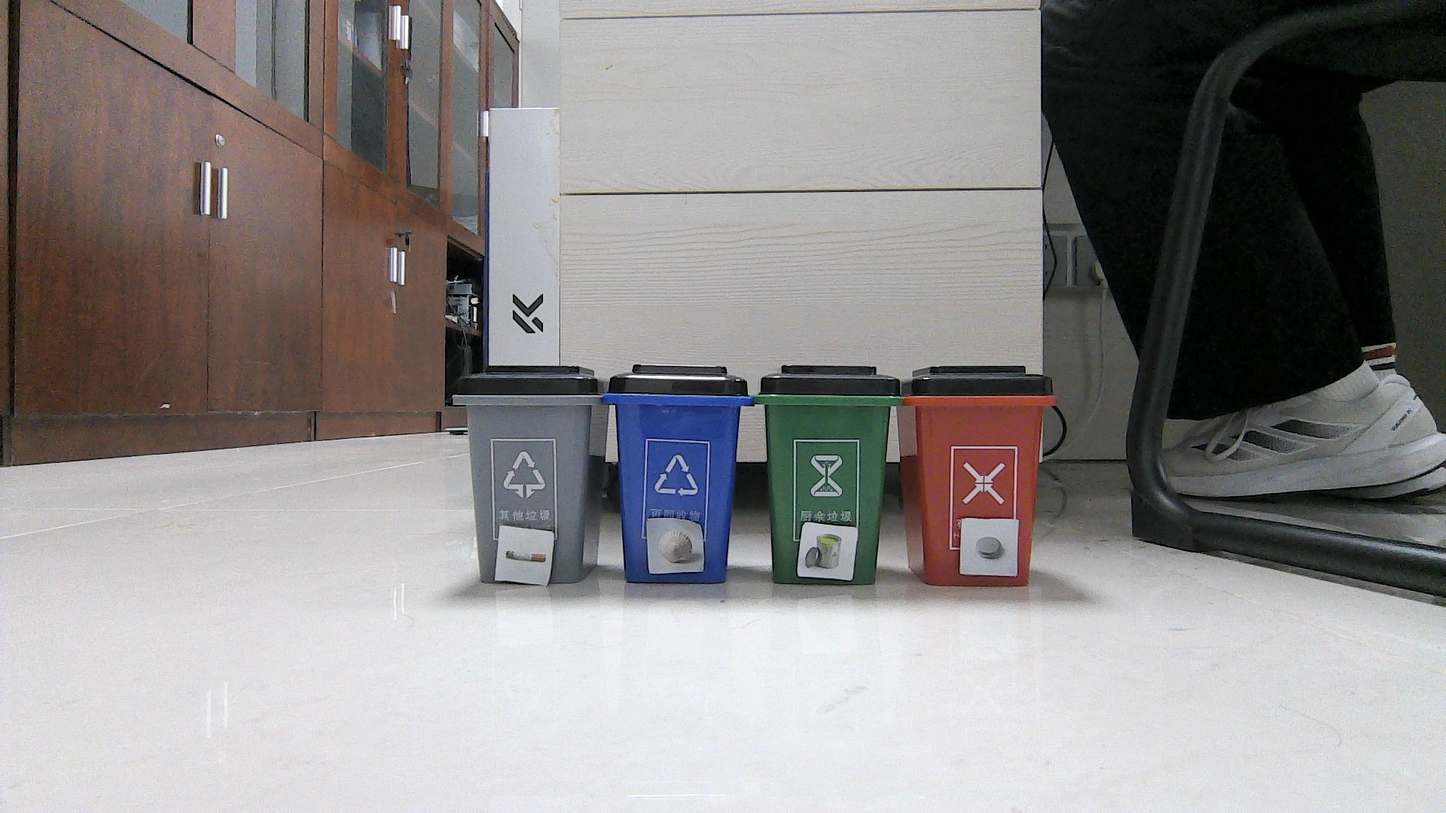hazardous_trash: (963, 519, 1015, 573), (803, 526, 850, 575)
other_trash: (501, 531, 551, 579), (652, 522, 700, 570)
